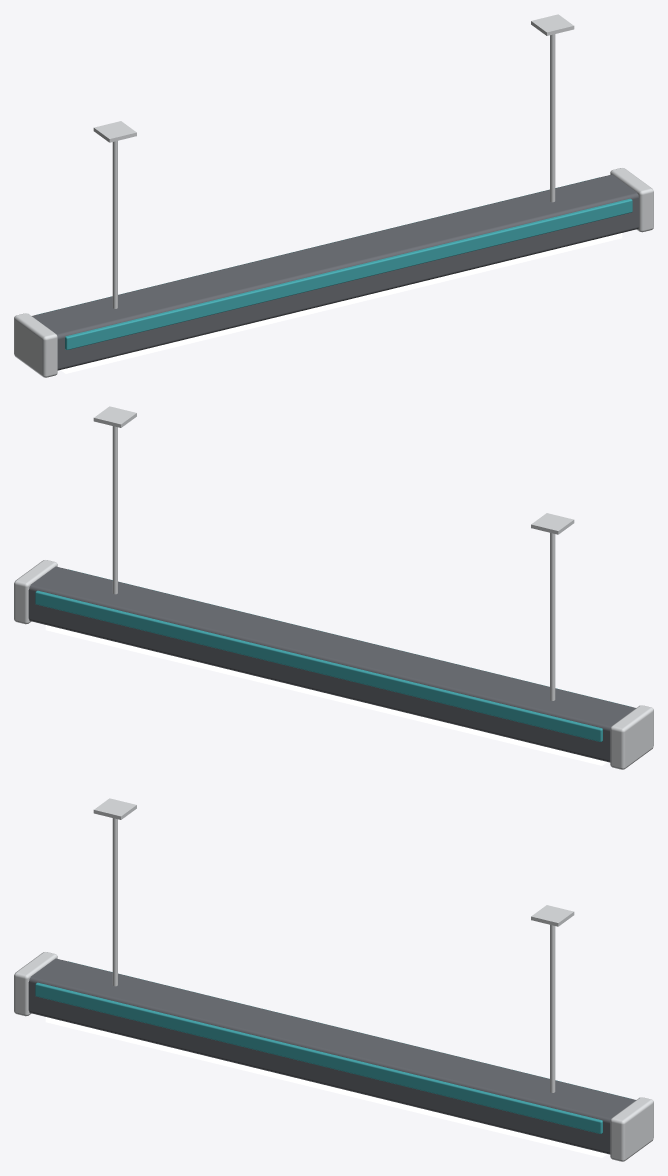
The model's file is light_bar.glb.
The picture shows the model from 3 angles, top to bottom: view 1: azimuth 30°, elevation 25°; view 2: azimuth 150°, elevation 25°; view 3: azimuth 330°, elevation 25°; orthographic projection.
Parts seen in each view (by area): view 1: ceiling-light-bar; view 2: ceiling-light-bar; view 3: ceiling-light-bar.
Part boxes in pixels (x1,y1,x2,y2): ceiling-light-bar: (14, 14, 653, 377); ceiling-light-bar: (14, 406, 653, 769); ceiling-light-bar: (14, 798, 653, 1161).
Size of the model in its own units: 2.46 by 0.854 by 0.2221.
